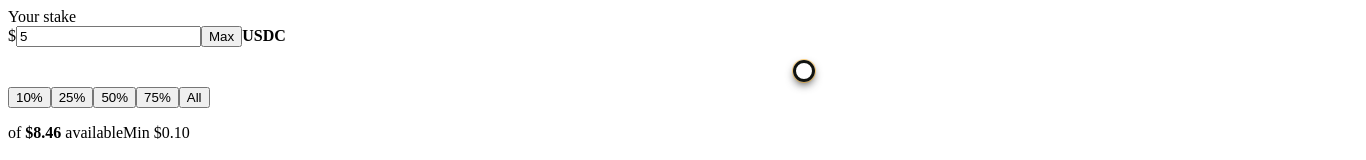
amount controls › slides over the usable balance and keeps the number field in step
The width and height of the screenshot is (1366, 160).
Expected: the element with class "nl-available" reads "of $8.46 availableMin $0.10", [8, 124, 190, 141]
Set the slider named "Stake amount" to "3.3" at (537, 71), box [10, 55, 1356, 87]
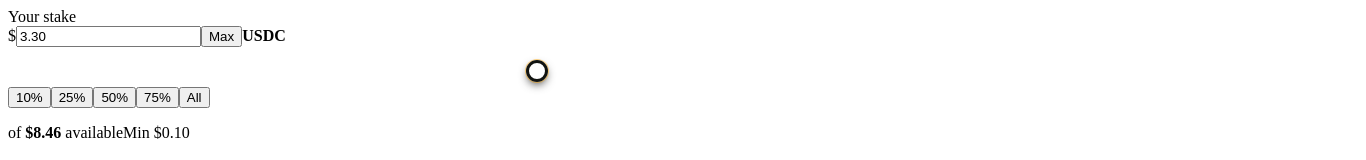
Expected: the number field with id "round-amount" holds "3.30"
Replace the text in the number field with id "round-amount" with "7" at (108, 36), box [16, 26, 201, 47]
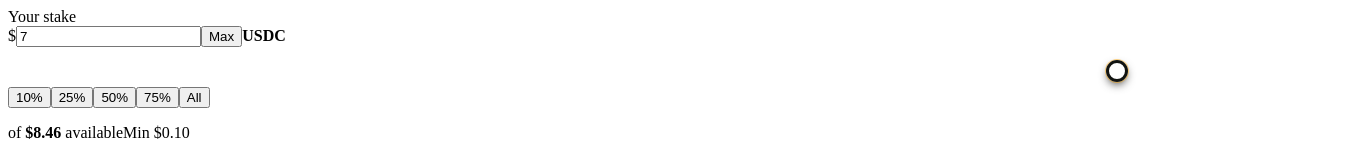
Expected: the slider named "Stake amount" holds "7", [10, 55, 1356, 87]
Replace the text in the number field with id "round-amount" with "12" at (108, 36), box [16, 26, 201, 47]
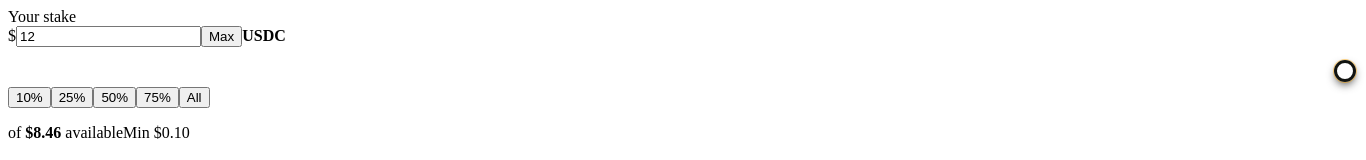
Expected: the slider named "Stake amount" holds "8.46", [10, 55, 1356, 87]
